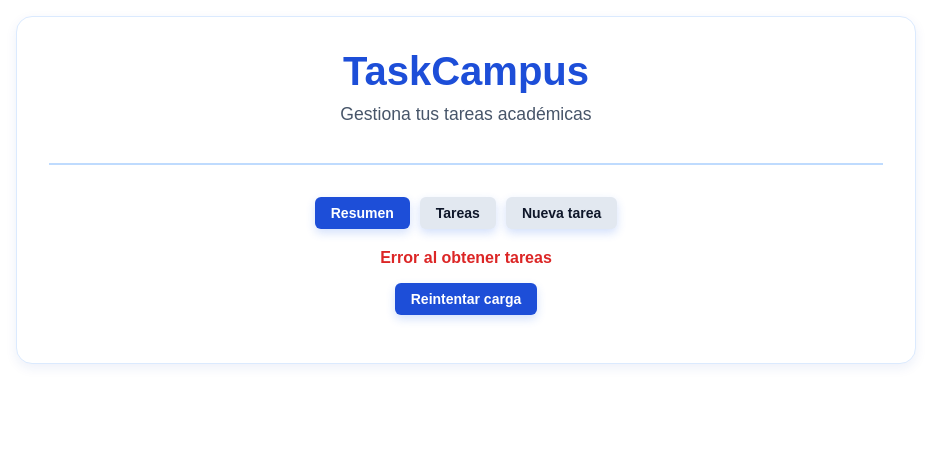
09 - carga fallida se puede reintentar
The width and height of the screenshot is (933, 464).
expect the message "Error al obtener tareas Reintentar carga" is shown: met, box [380,249,552,315]
What coordinates should you click on to do the following:
click the button "Reintentar carga"
I would click on:
 (466, 299)
Its box is [395,283,537,315].
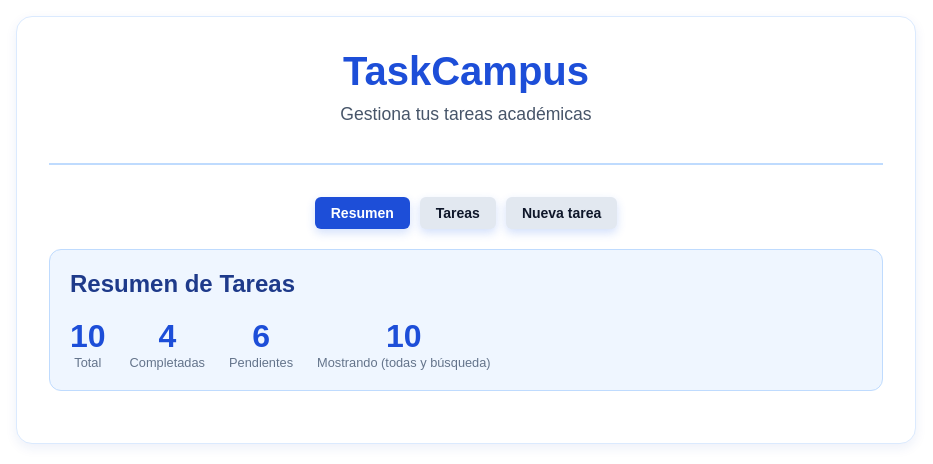
expect the text "Total" is shown: met, box [74,354,101,370]
